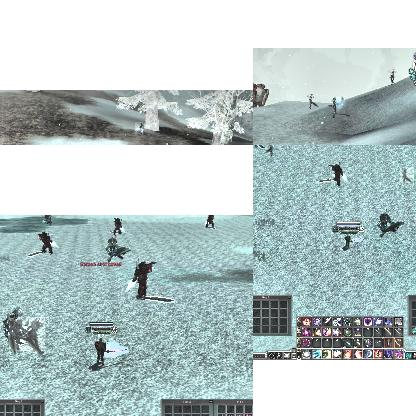caliana: (27, 317, 45, 353), (9, 317, 27, 351), (4, 306, 22, 336), (328, 98, 344, 119), (400, 167, 414, 183), (306, 93, 318, 109), (388, 69, 396, 85), (135, 122, 143, 134), (265, 145, 274, 155)
